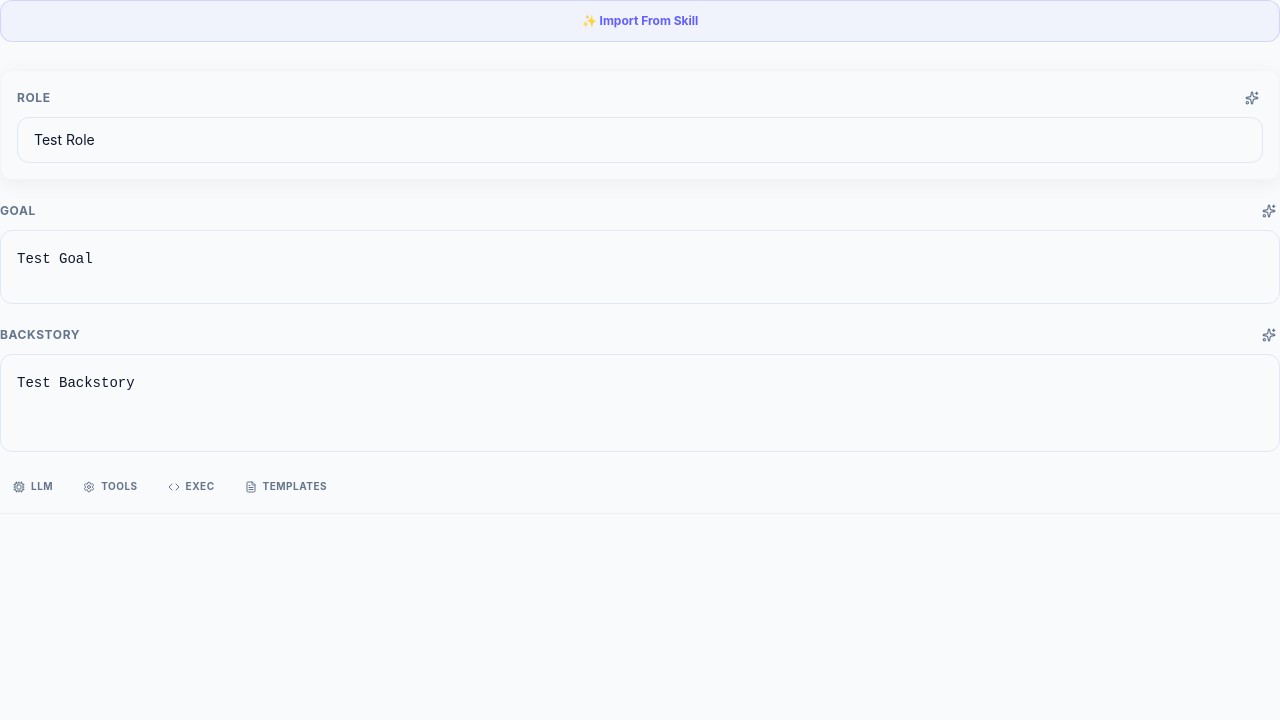
Test: AgentForm › renders global tool selector content when open
Switch to Tools tab
Click the button "Tools": click(110, 486) [70,472,151,501]
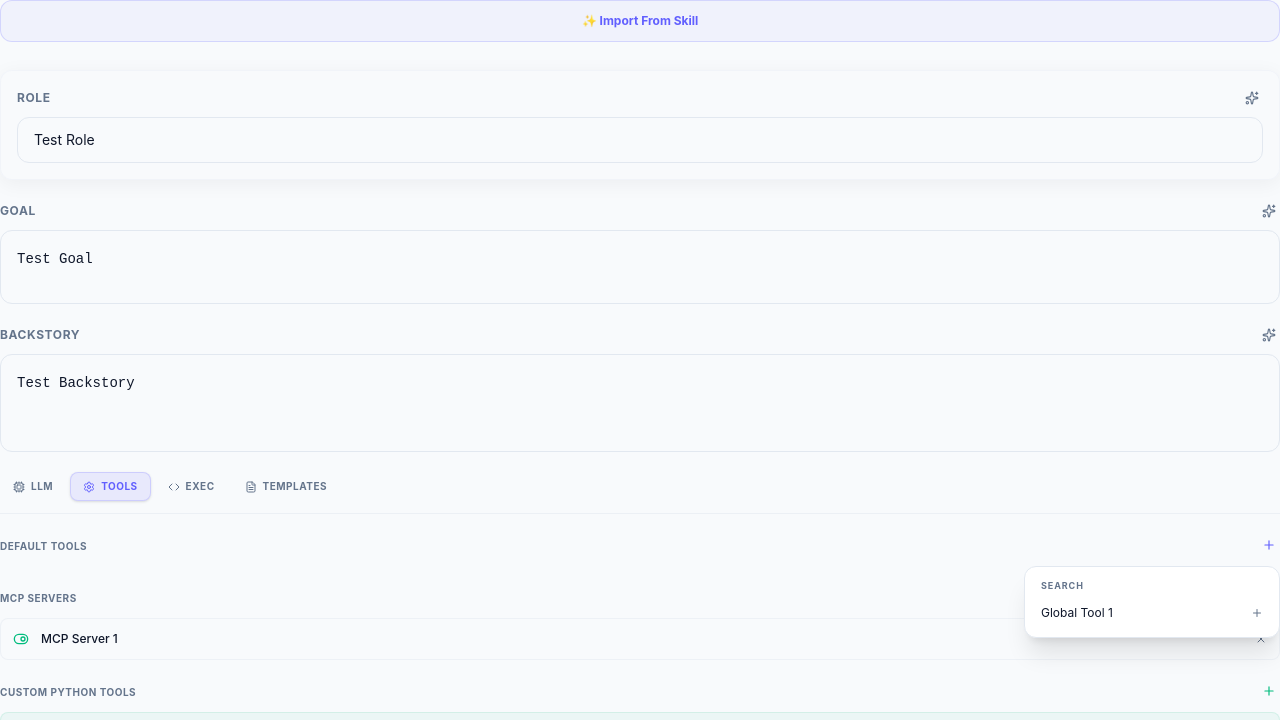
Result: the button "Global Tool 1" is shown at [1029,596,1275,628]
Result: the text "Search" is shown at [1041,580,1084,591]
